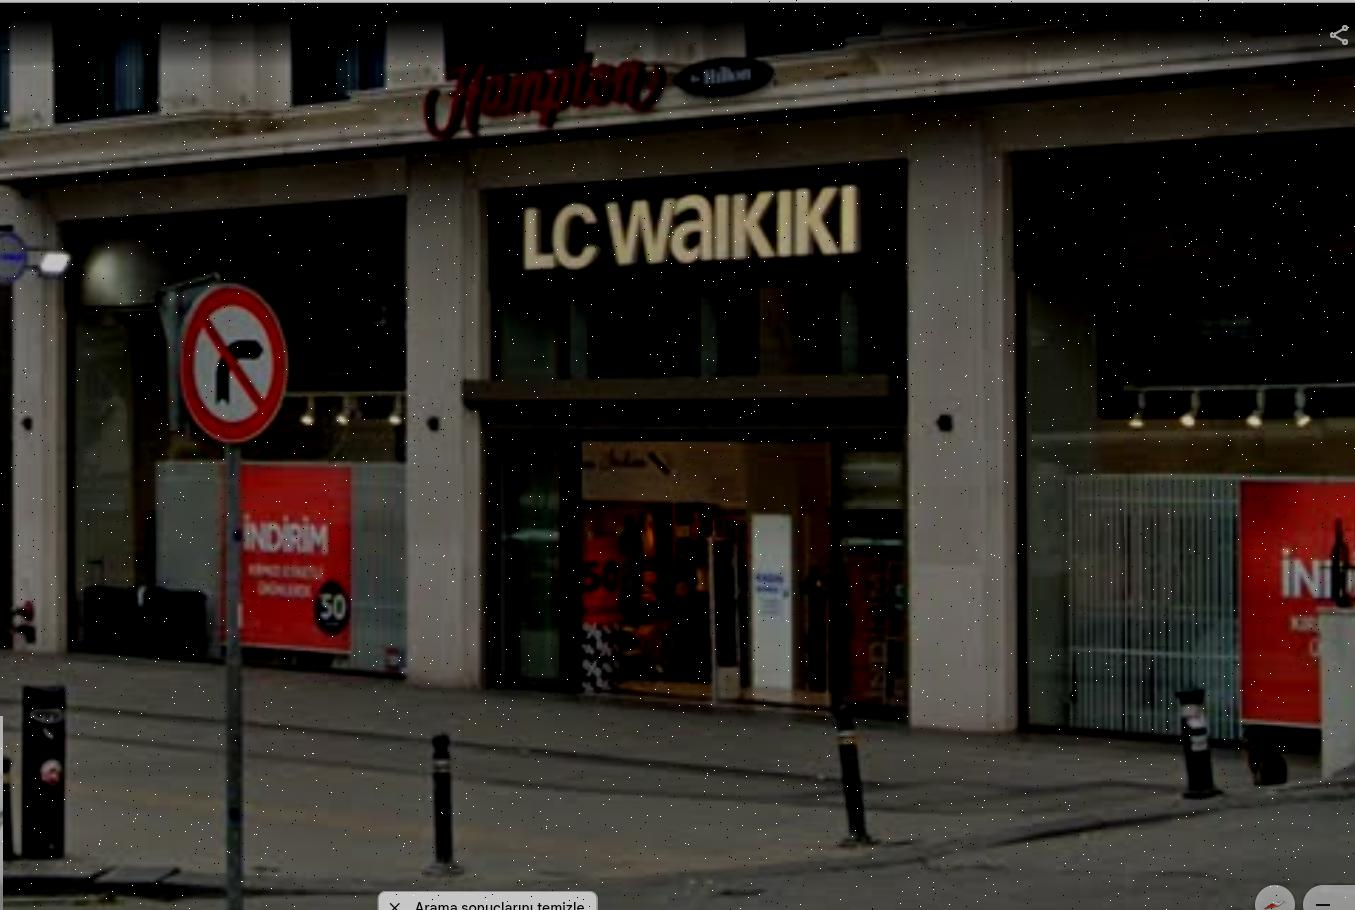rightturnsareforbidden: (177, 281, 292, 444)
